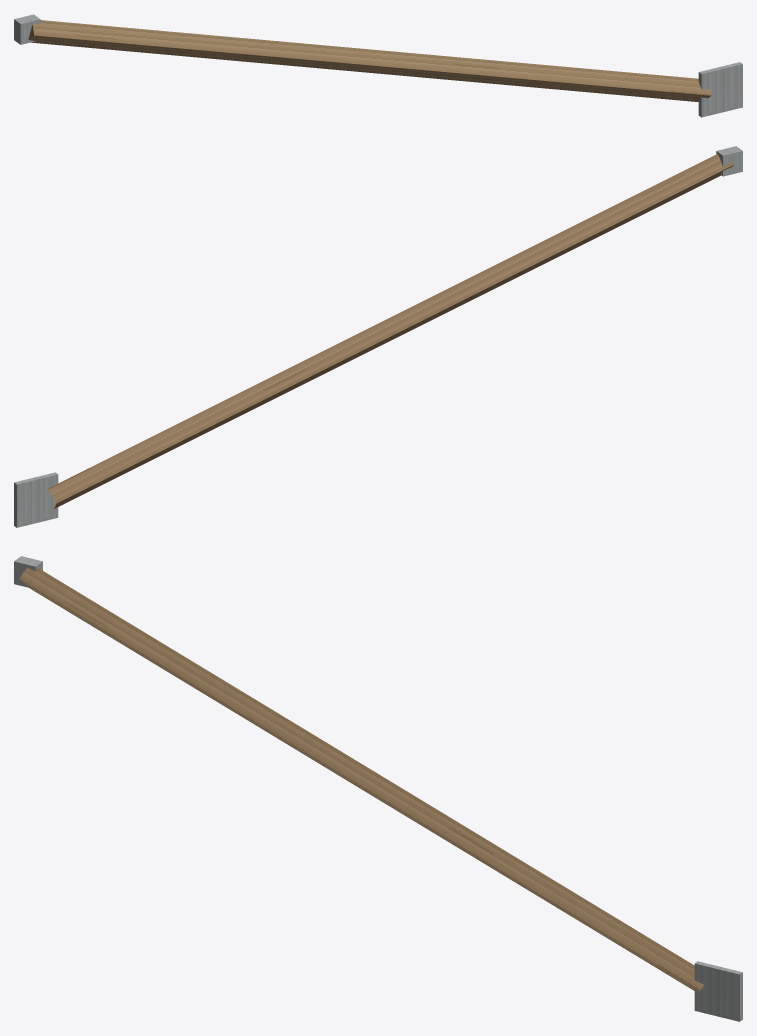
The model's file is brace_l.obj.
3 renders of one model, top to bottom at view 1: azimuth 30°, elevation 25°; view 2: azimuth 210°, elevation 25°; view 3: azimuth 330°, elevation 25°, orthographic. The views are drawn at different scales.
Parts seen in each view (by area): view 1: crossarm_alley_wood_7_l; view 2: crossarm_alley_wood_7_l; view 3: crossarm_alley_wood_7_l.
Boxes of the visible parts, bbox=[...] form: crossarm_alley_wood_7_l: bbox=[14, 14, 742, 117]; crossarm_alley_wood_7_l: bbox=[14, 146, 742, 527]; crossarm_alley_wood_7_l: bbox=[14, 556, 742, 1021].
Size of the model in its own units: 5.23 by 1.67 by 0.5121.
